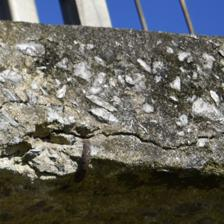Crack: (73, 3, 148, 94), (160, 61, 188, 123)
